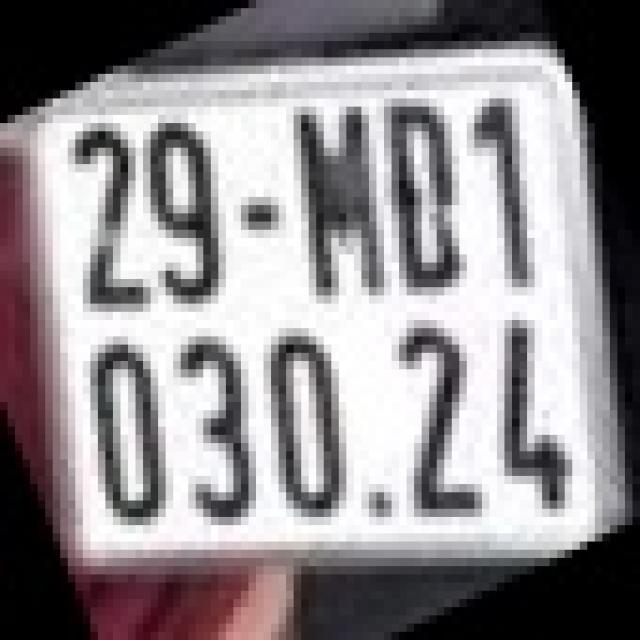0: (270, 336, 346, 517), (90, 344, 166, 518)
1: (474, 99, 534, 288)
2: (399, 320, 482, 517), (75, 123, 151, 312)
3: (181, 336, 256, 517)
4: (497, 320, 580, 517)
9: (150, 123, 226, 304)
D: (392, 106, 459, 288)
M: (290, 95, 388, 292)
